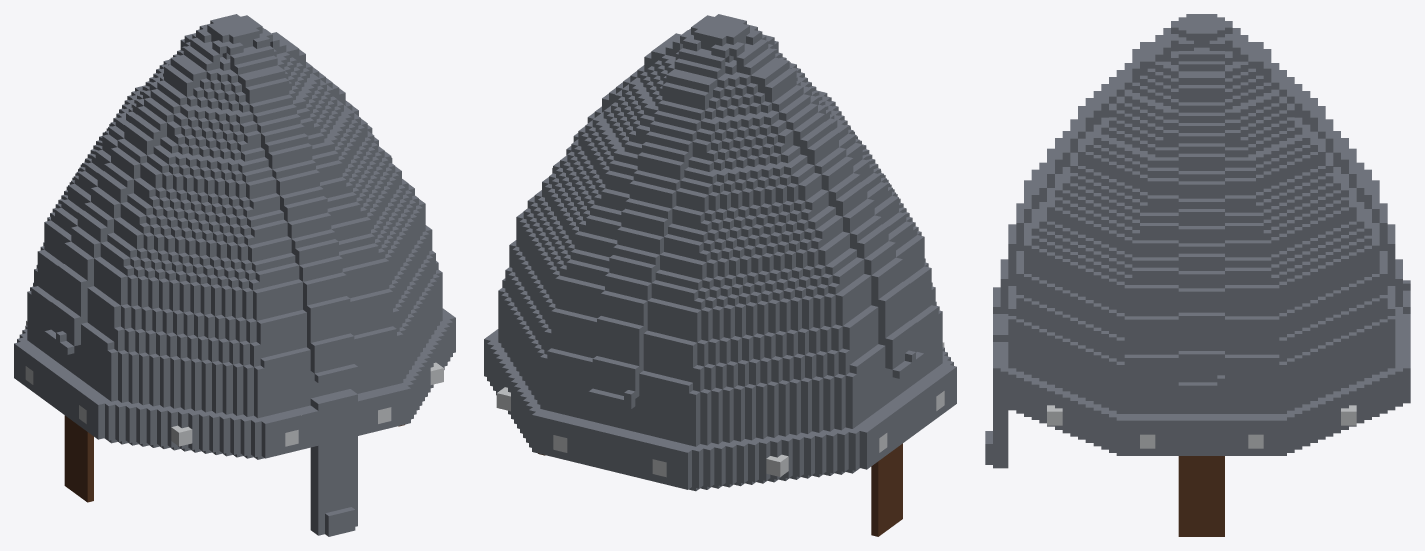
The model's file is ch_helmet_nasal.glb.
3 views of the same model, side by side, from view 1: azimuth 30°, elevation 25°; view 2: azimuth 150°, elevation 25°; view 3: azimuth 270°, elevation 25° (orthographic). The views are drawn at different scales.
Visible parts, largest first — view 1: ch_helmet_nasal:compound; view 2: ch_helmet_nasal:compound; view 3: ch_helmet_nasal:compound.
Boxes of the visible parts, bbox=[...] form: ch_helmet_nasal:compound: bbox=[14, 14, 455, 536]; ch_helmet_nasal:compound: bbox=[484, 14, 956, 536]; ch_helmet_nasal:compound: bbox=[985, 14, 1410, 536].
Bounding box in the file's own units: 0.216 × 0.248 × 0.22.
